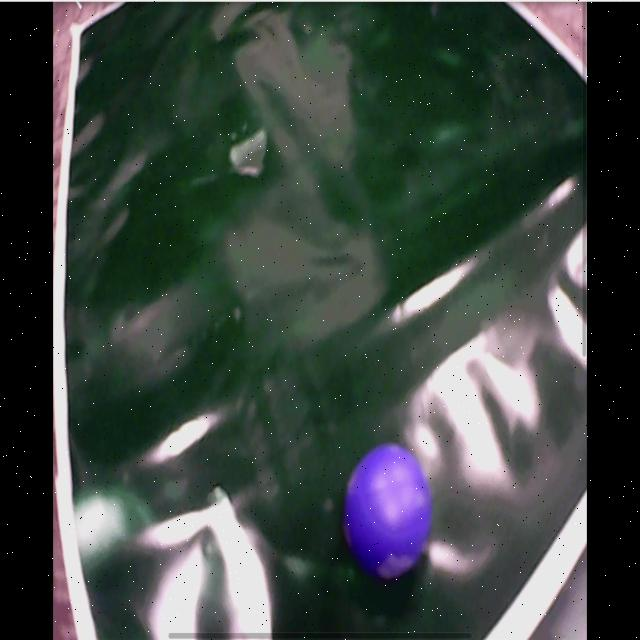ball: (346, 445, 430, 577)
